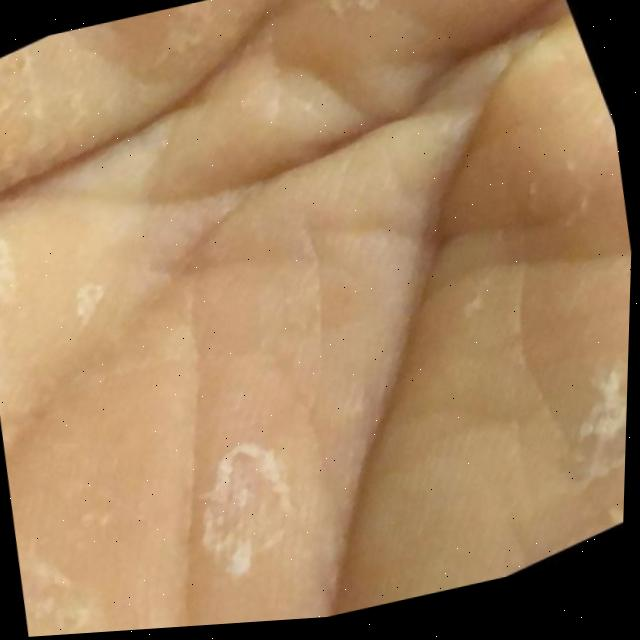Eczema: (181, 419, 299, 580), (0, 138, 86, 348), (533, 333, 629, 478), (308, 0, 424, 39)
